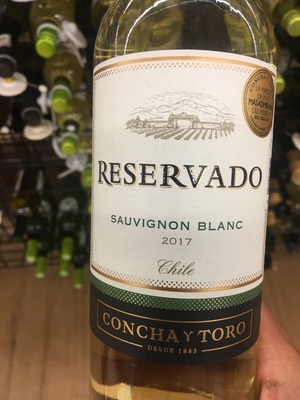reservado sauvignon blanc: (89, 6, 281, 400)
